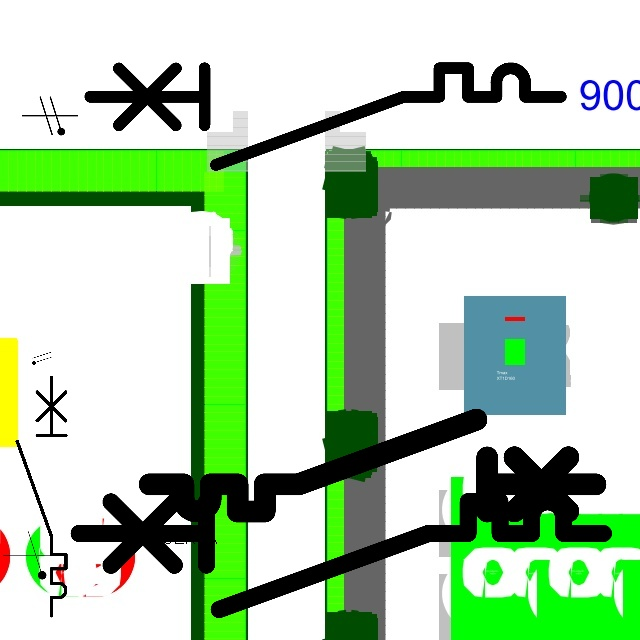interruptor_termomagnetico: (65, 488, 617, 623), (78, 56, 573, 177), (138, 408, 606, 523), (11, 371, 72, 622)
